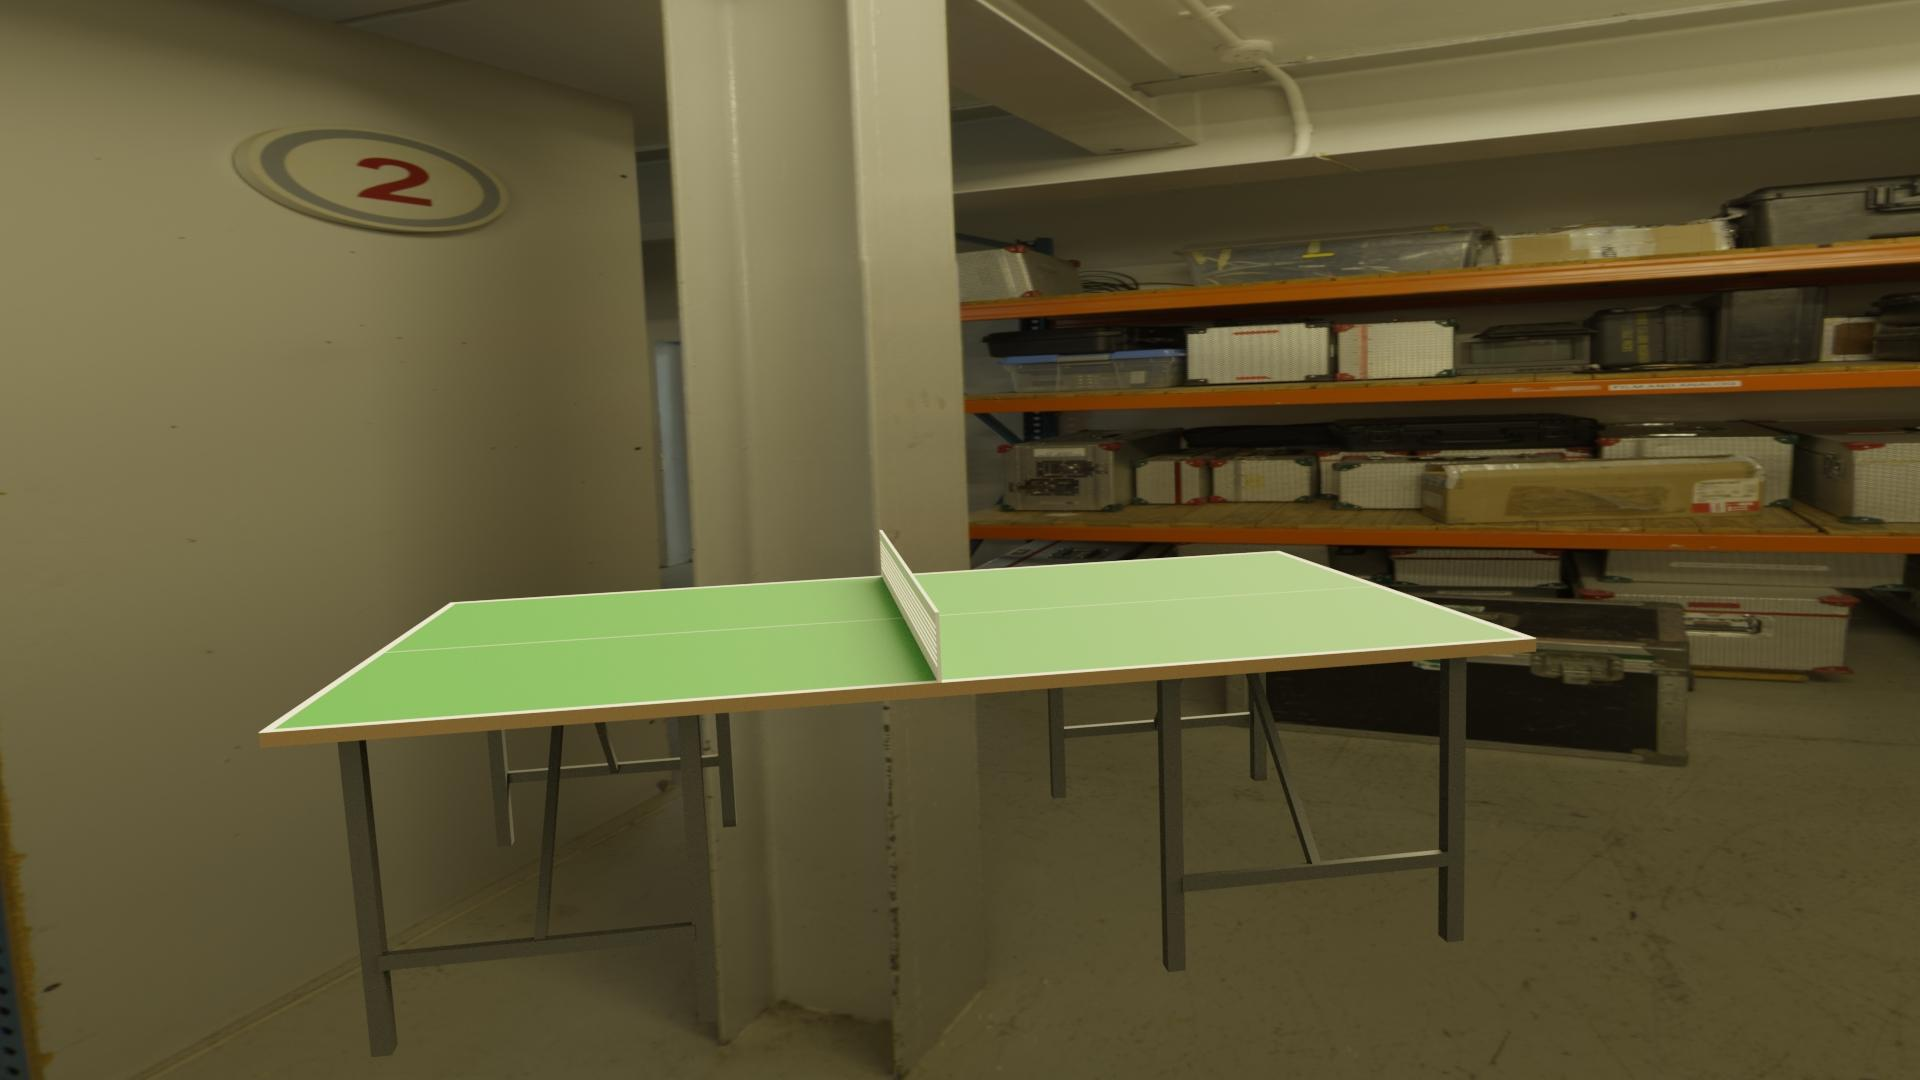table: (273, 553, 1523, 729)
